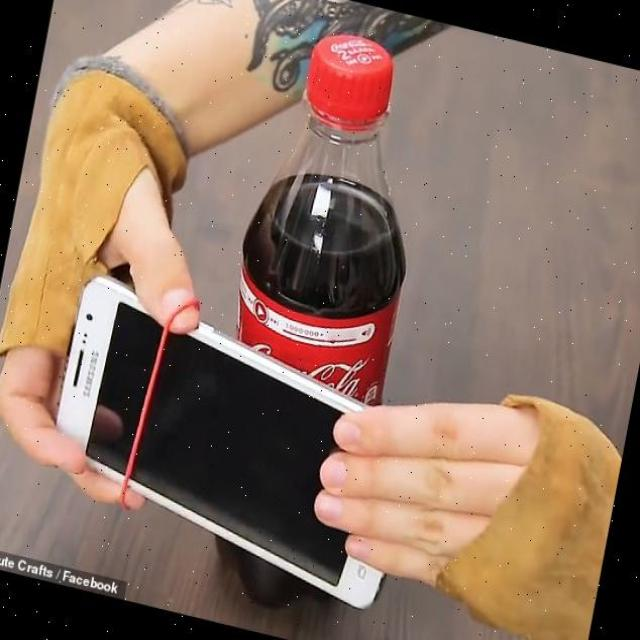coca-cola: (158, 14, 456, 626)
